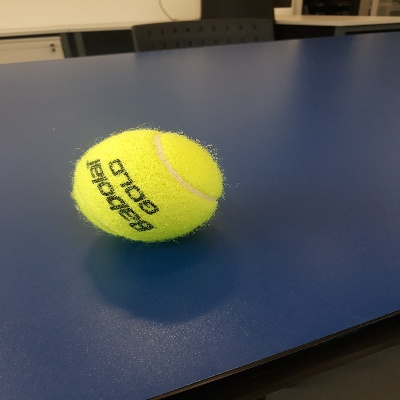Ball: (71, 127, 224, 243)
